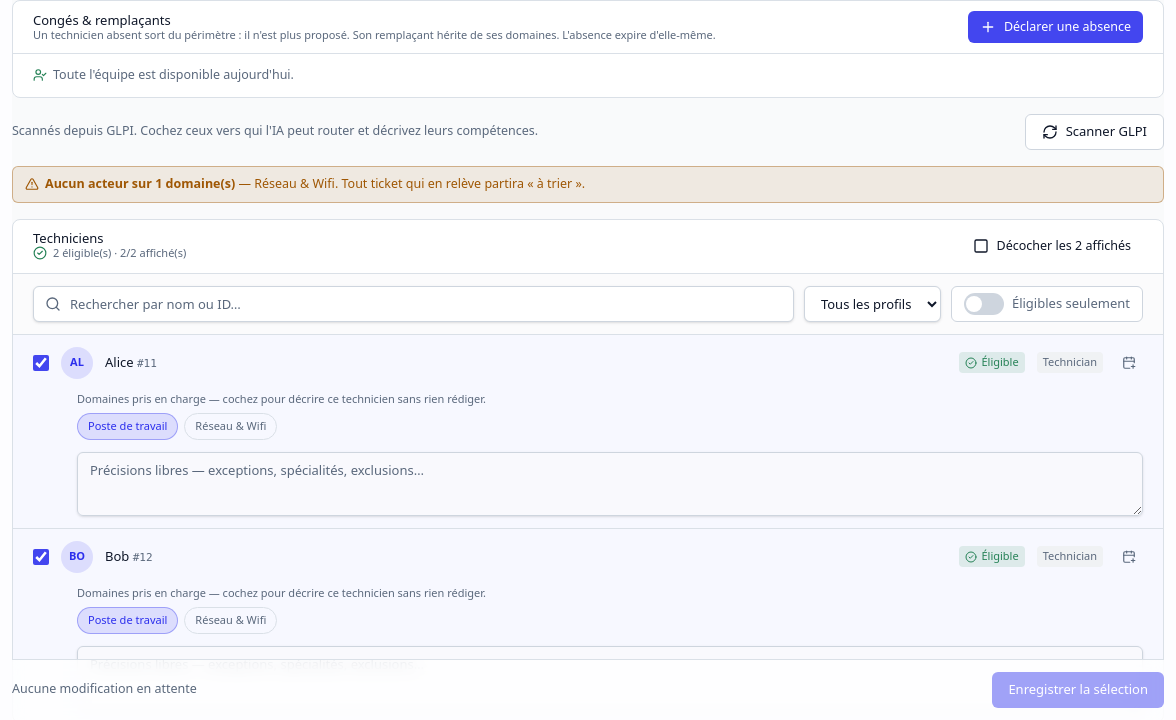
Test case: Carte de couverture des domaines › réagit à la case cochée AVANT tout enregistrement
Expected: the text "Aucun acteur sur 1 domaine(s)" is shown, x1=45 y1=175 x2=235 y2=192
What coordinates should you click on to do the following:
click the button "Réseau & Wifi" below "Alice"
I would click on:
 (231, 426)
Its box is x1=184 y1=413 x2=277 y2=440.
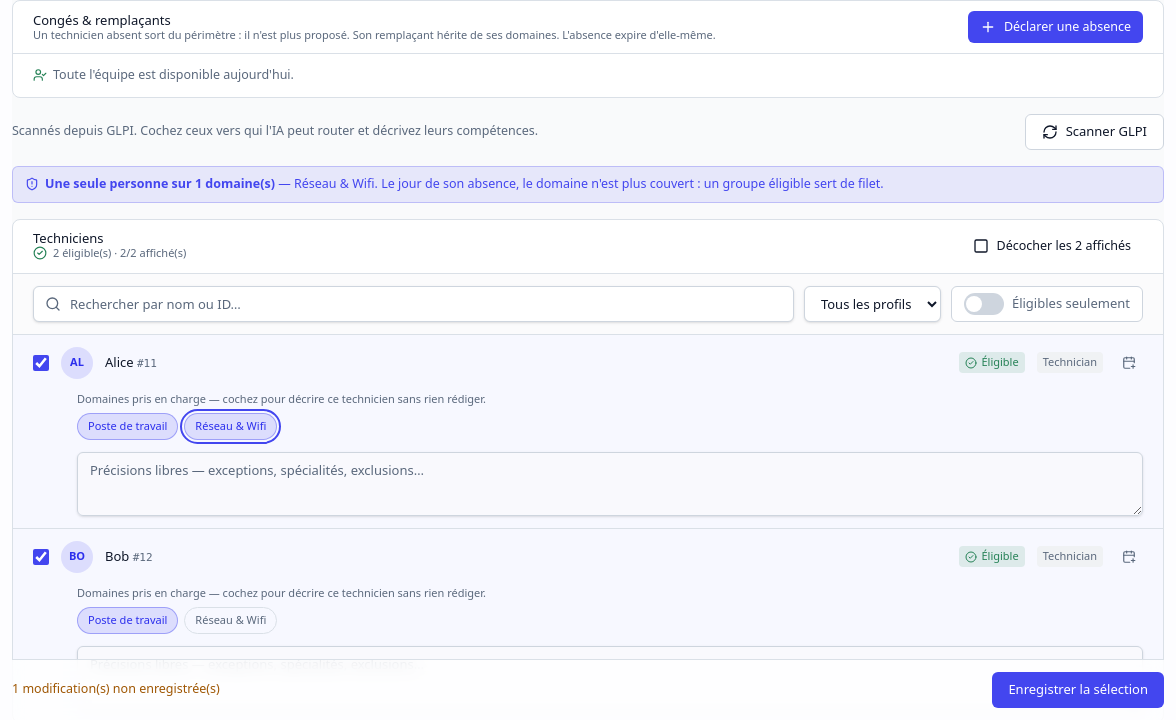
Now the text "Une seule personne sur 1 domaine(s)" is shown, box x1=45 y1=175 x2=275 y2=192
Now the text "Aucun acteur" is gone
